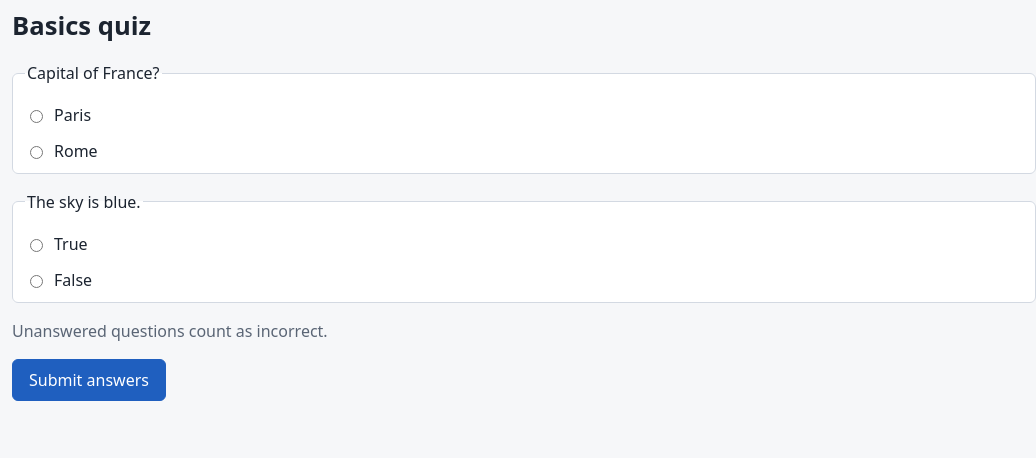
QuizPage › shows a submission error
Click the radio button labelled "Paris" at x=36, y=116, box [30,110,43,123]
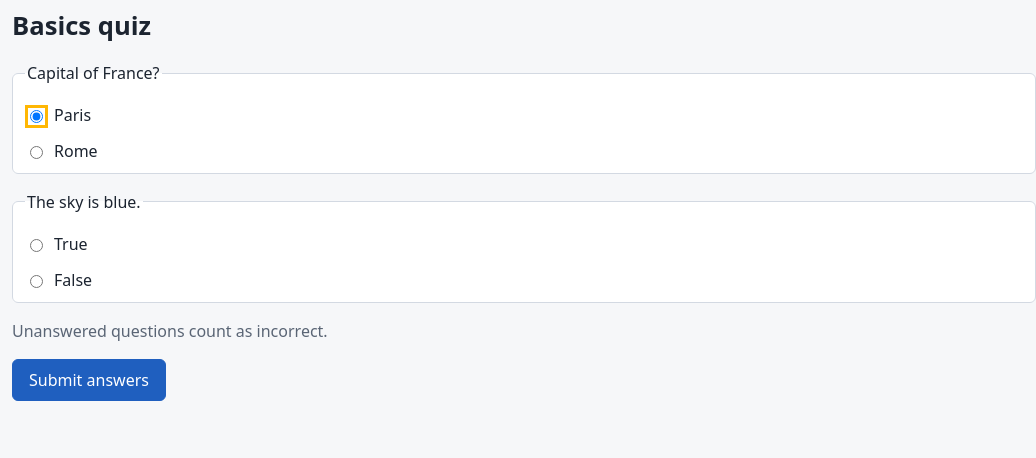
Click the radio button labelled "True" at x=36, y=245, box [30,239,43,252]
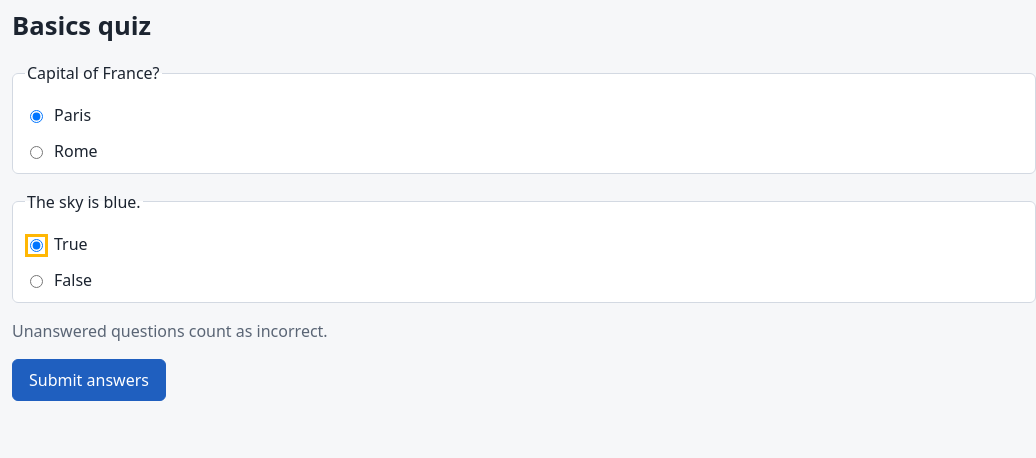
Click the button "Submit answers" at x=89, y=380, box [12,359,166,401]
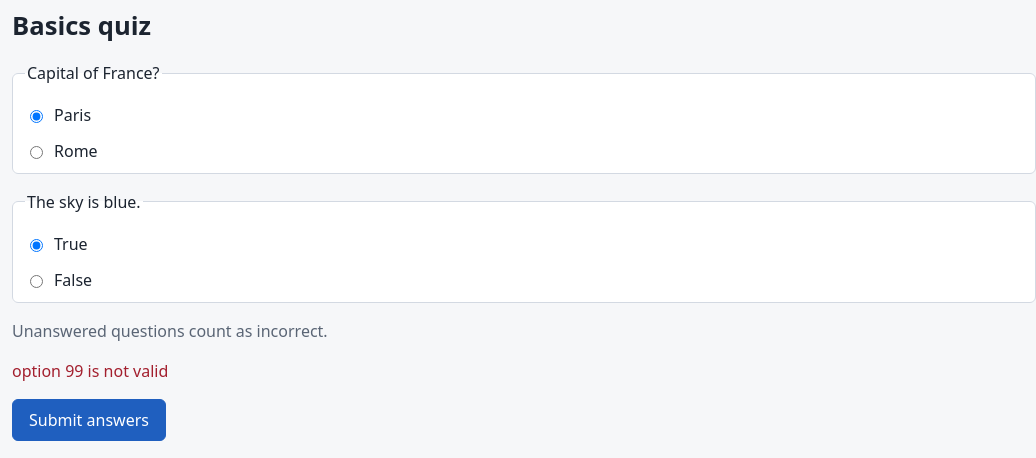
Check: the message shows "not valid", box [12,360,168,382]
